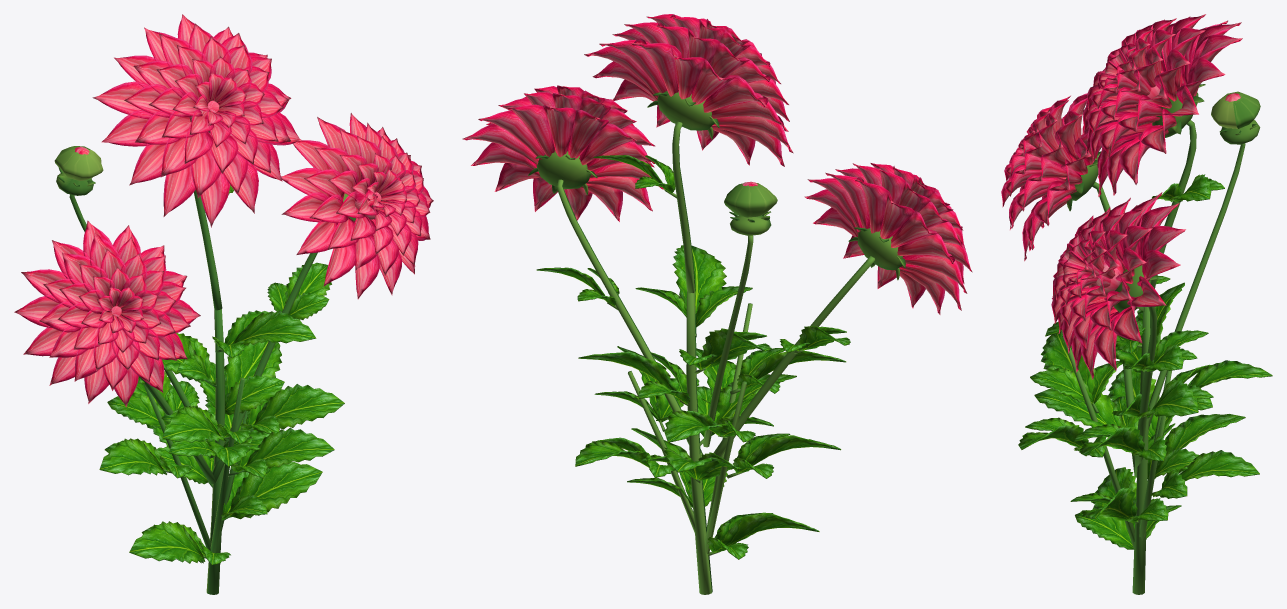
The model's file is NP_Dahlia_Ready.fbx.
3 renders of one model, left to right at view 1: azimuth 30°, elevation 25°; view 2: azimuth 150°, elevation 25°; view 3: azimuth 270°, elevation 25°, orthographic. The views are drawn at different scales.
Visible parts, largest first — view 1: NP_Dahlia_Ready; view 2: NP_Dahlia_Ready; view 3: NP_Dahlia_Ready.
Part boxes in pixels (x1,y1,x2,y2): NP_Dahlia_Ready: [14, 14, 433, 594]; NP_Dahlia_Ready: [462, 14, 972, 594]; NP_Dahlia_Ready: [1001, 14, 1272, 594].
Size of the model in its own units: 72.9 by 87.83 by 37.97.
